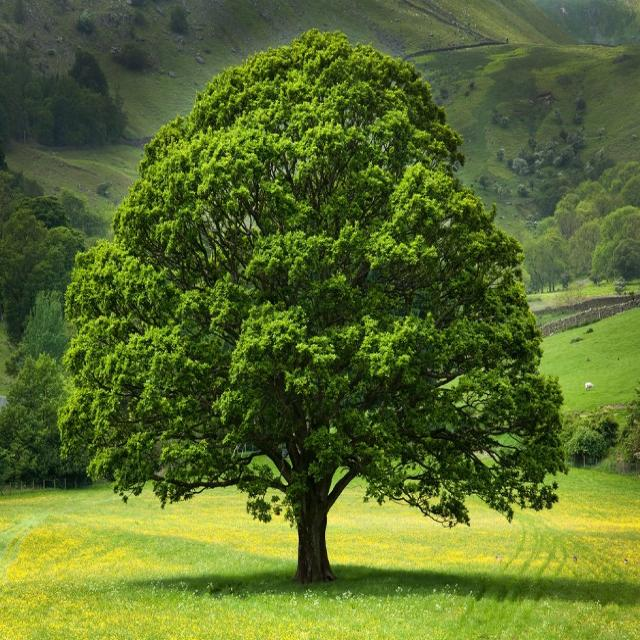Tree: (46, 39, 558, 584)
